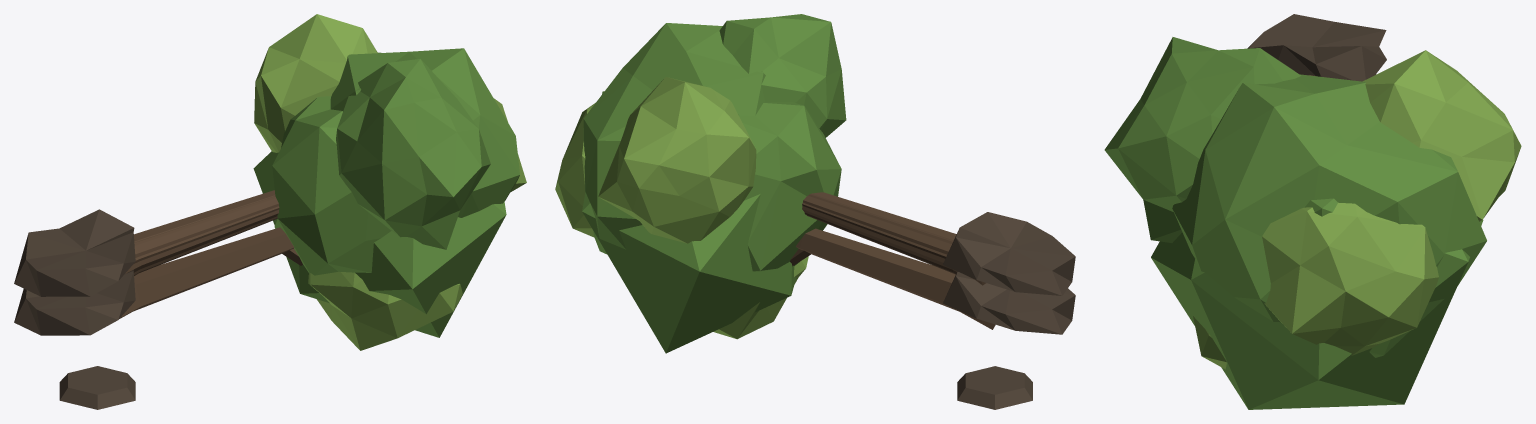
File: neutral_tree_broadleaf_fallen.glb
3 views of the same model, side by side, from view 1: azimuth 30°, elevation 25°; view 2: azimuth 150°, elevation 25°; view 3: azimuth 270°, elevation 25° (orthographic). The views are drawn at different scales.
Visible parts, largest first — view 1: foliage (×2), root_plate (×2), trunk (×3); view 2: foliage (×2), root_plate (×2), trunk (×3); view 3: foliage (×2), root_plate.
Part boxes in pixels (x1,y1,x2,y2): foliage (×2): (253,14,526,350); root_plate (×2): (14,209,135,409); trunk (×3): (119,190,302,318); foliage (×2): (555,14,846,353); root_plate (×2): (943,212,1075,409); trunk (×3): (790,192,995,329); foliage (×2): (1104,37,1521,409); root_plate: (1247,14,1386,81).
Size of the model in its own units: 11.69 by 6.51 by 7.22.
